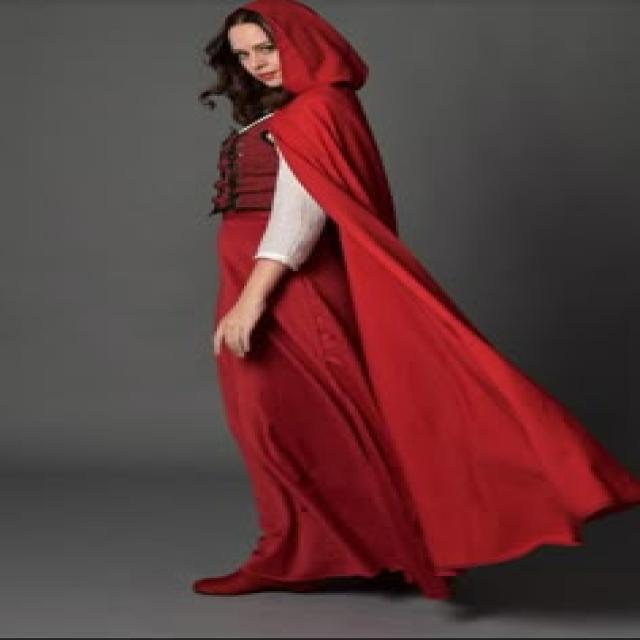4_capucha: (238, 0, 371, 97)
